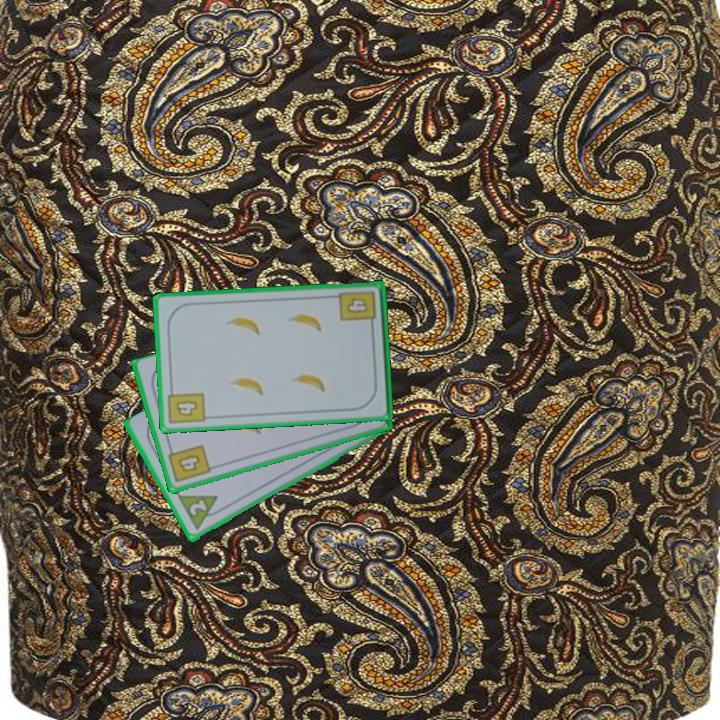2p: (185, 496, 210, 519)
4b: (165, 441, 214, 485), (165, 383, 208, 427), (336, 287, 379, 331)
